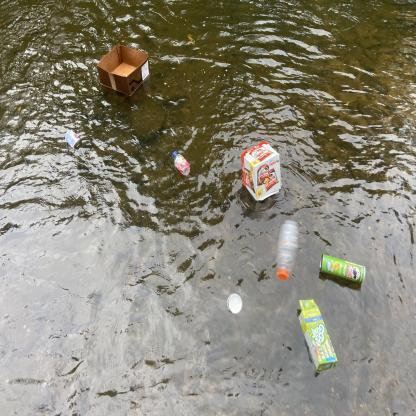trash: (292, 295, 340, 376), (94, 40, 152, 98), (238, 137, 284, 203), (314, 248, 370, 290), (275, 216, 302, 284), (170, 146, 194, 184), (223, 292, 246, 321), (62, 128, 86, 155)
